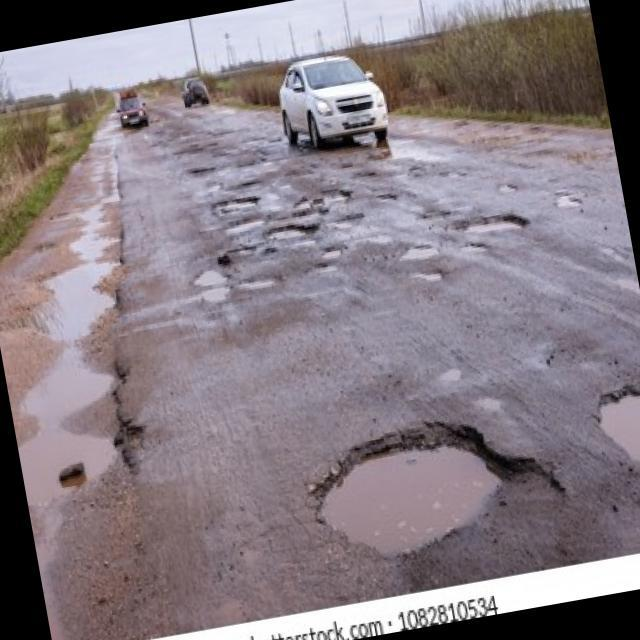Pothole: (300, 408, 518, 572), (590, 378, 640, 475), (456, 207, 532, 243), (262, 215, 322, 244), (234, 267, 282, 294), (212, 190, 260, 214), (190, 263, 228, 292), (280, 202, 330, 224), (399, 240, 439, 264), (552, 186, 584, 212), (197, 284, 234, 306), (409, 265, 445, 287), (320, 185, 354, 207), (224, 238, 258, 258), (318, 242, 344, 262), (312, 258, 339, 276), (336, 212, 366, 228), (189, 164, 215, 176), (376, 190, 396, 204), (499, 178, 516, 194), (292, 195, 310, 210), (356, 168, 378, 180)
